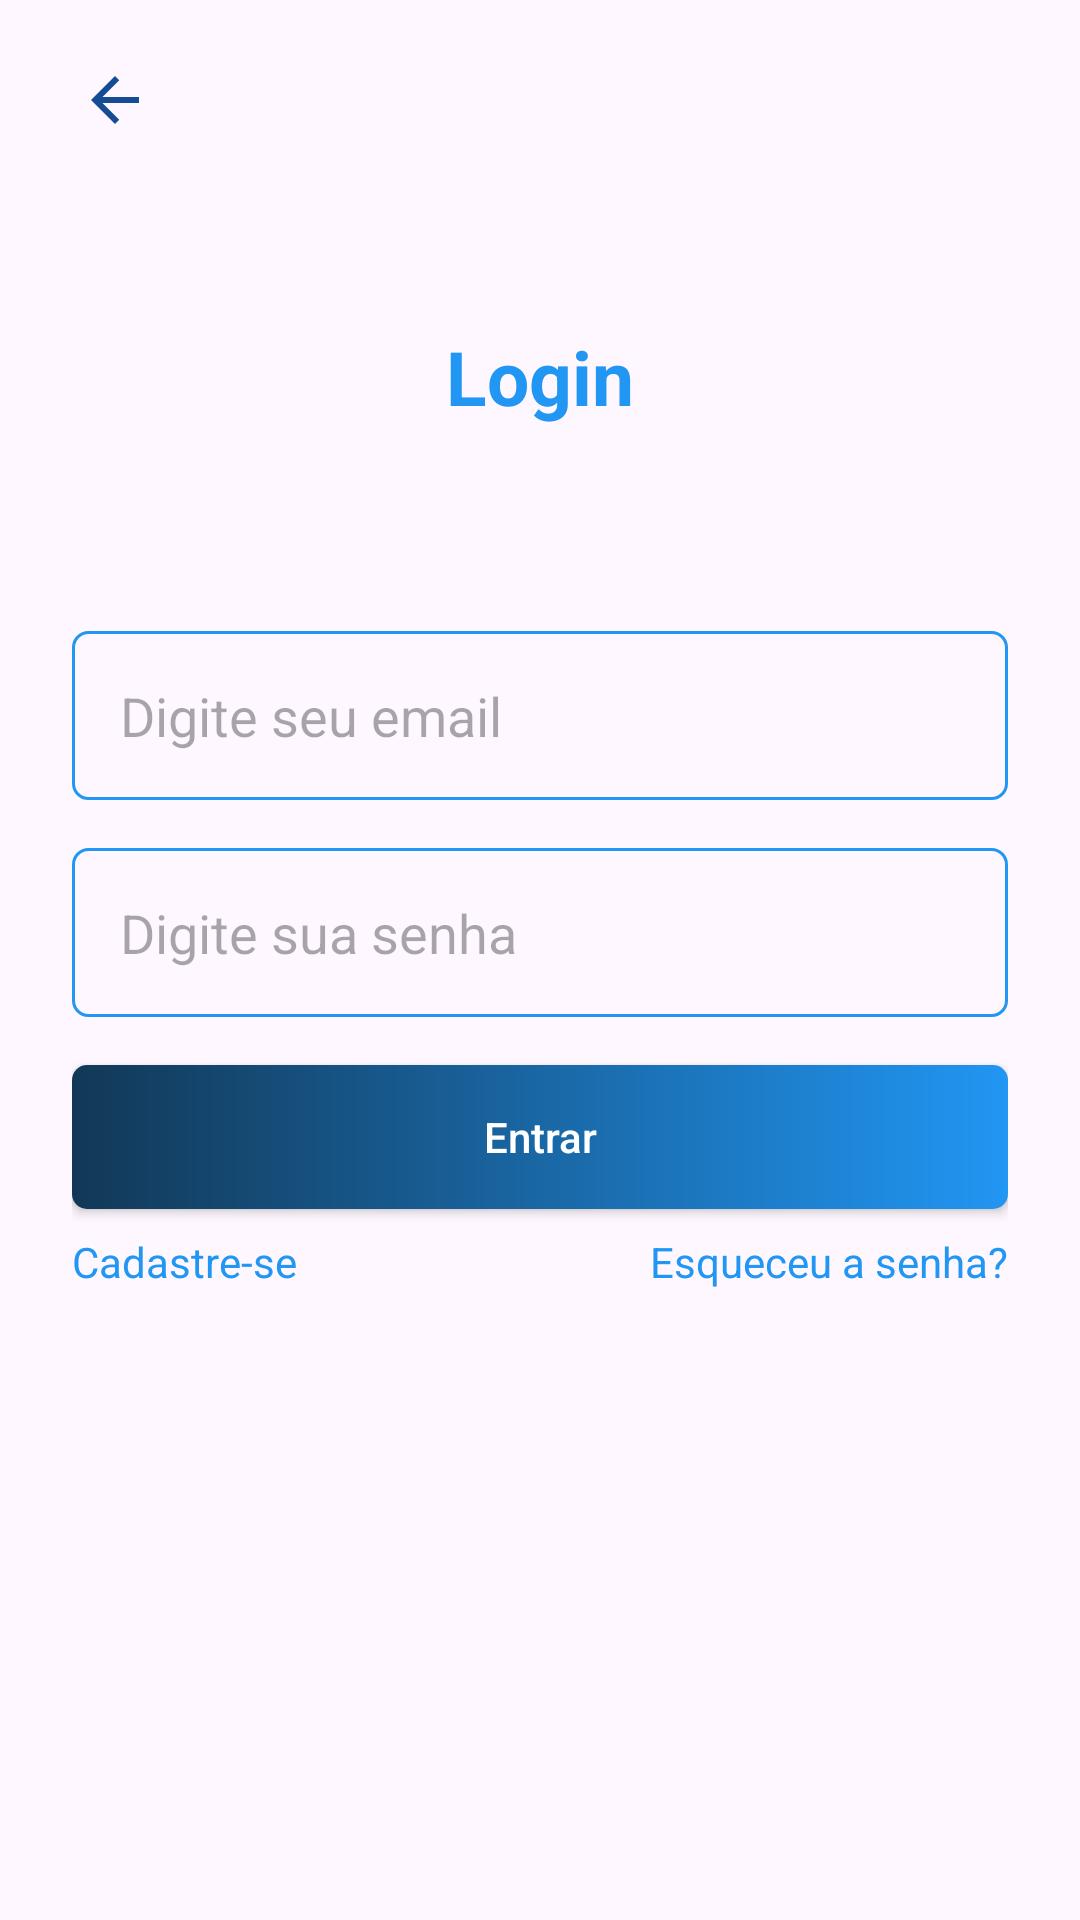

Screen size 1080*1920. Icon name, then its box in pixels as (x1, y1, x2, y2):
back: (91, 76, 139, 124)
